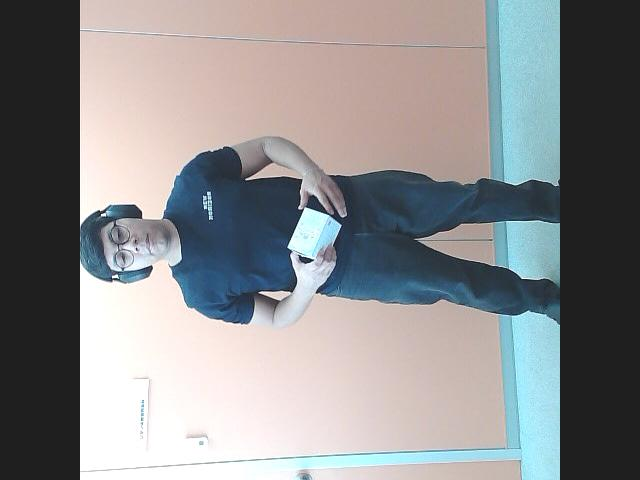Blind_box: (285, 204, 344, 259)
